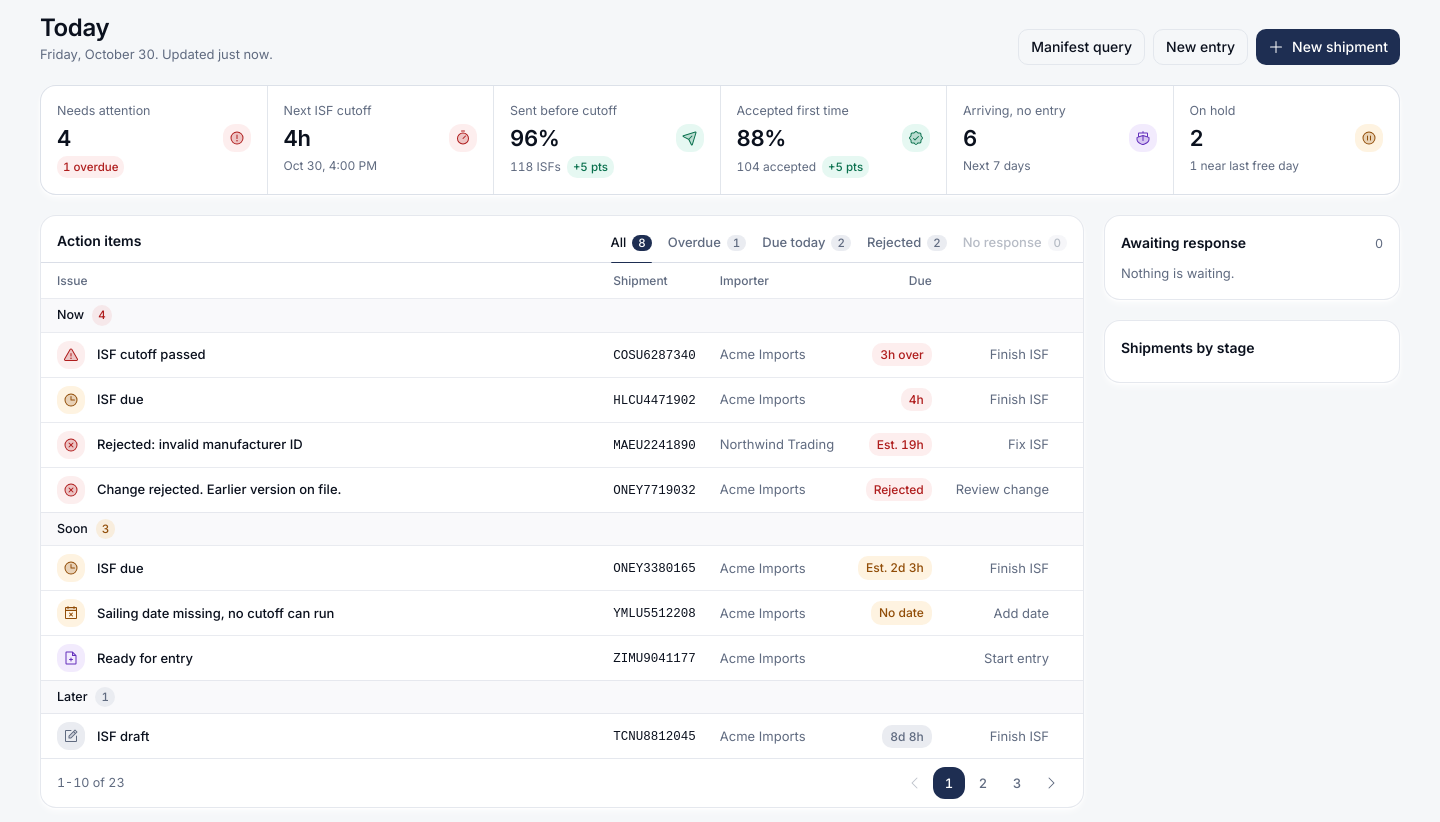
Scenario: DashboardHome › shows a moving bar while a page loads
The width and height of the screenshot is (1440, 822).
Click the button named "Page 2" at point(983, 783), box [967, 767, 999, 799]
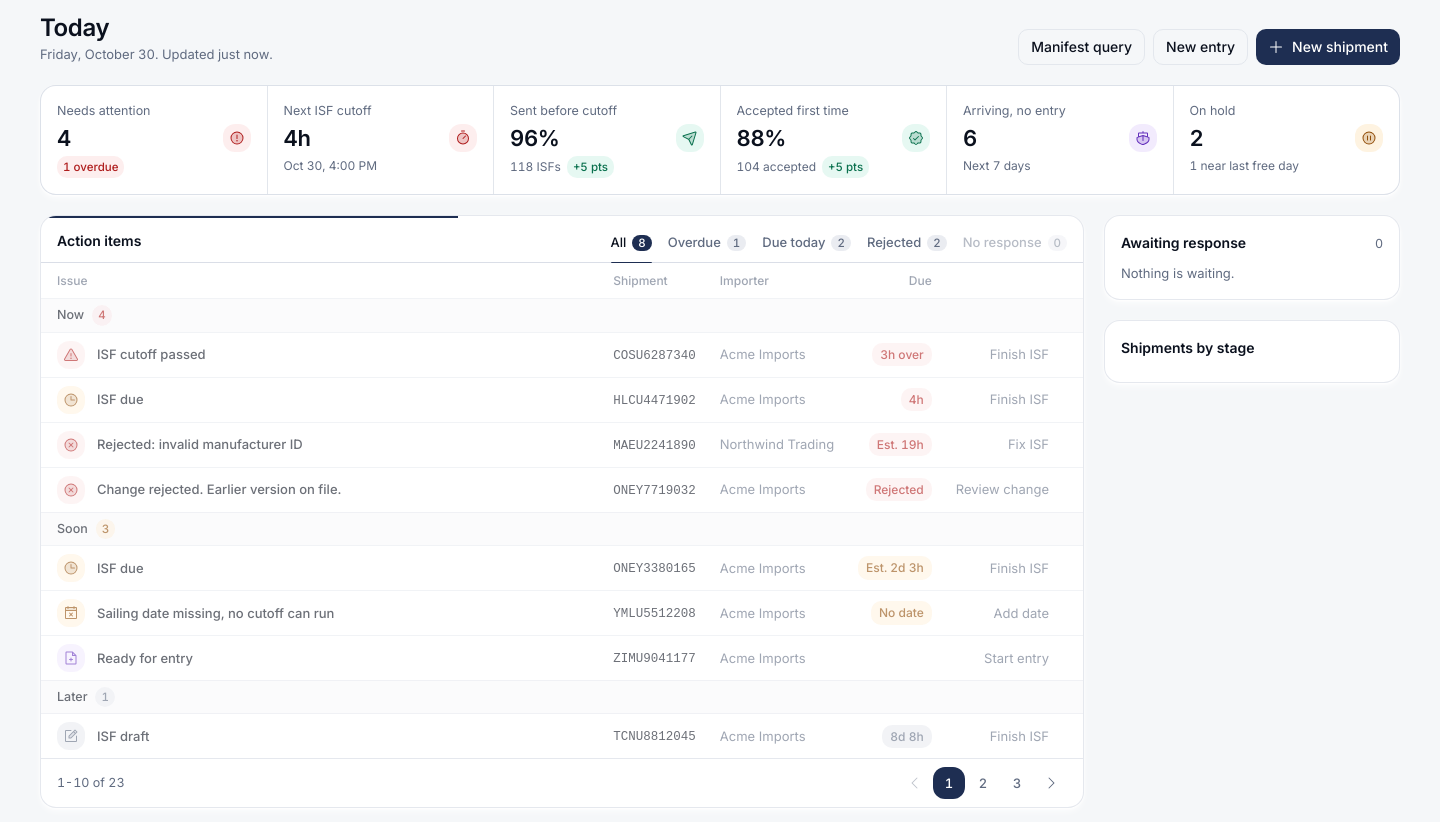
Result: the progress indicator named "Loading action items" is shown at [41, 216, 1083, 218]
